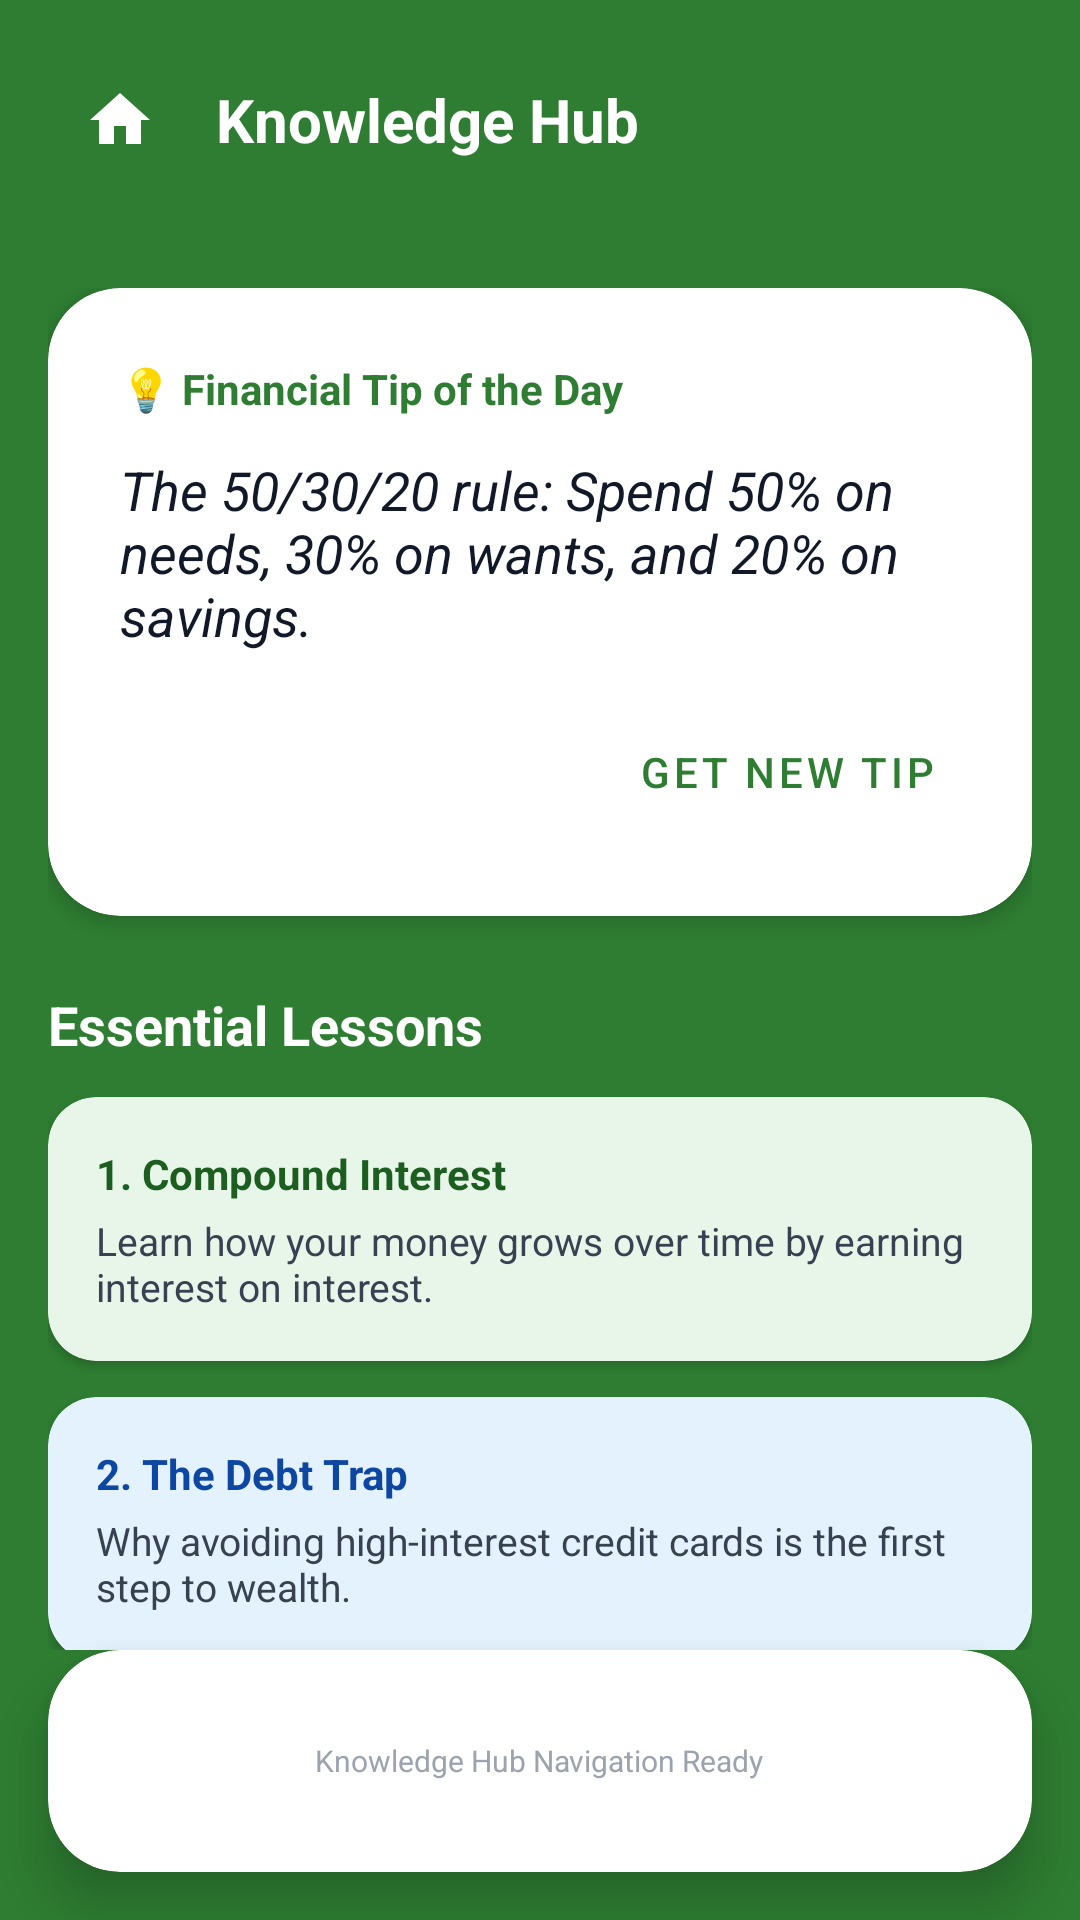

Where to tap for icons on this 1080 × 1920 app screen, as point (x, y):
Back to Home: point (120, 118)
